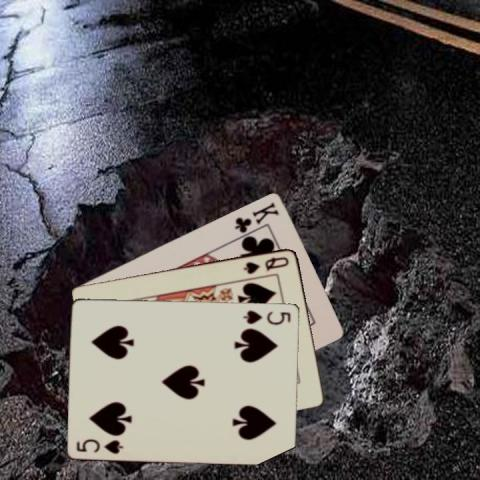5s: (74, 435, 125, 455), (240, 307, 293, 326)
Kc: (232, 199, 280, 234)
Qs: (240, 253, 290, 276)
